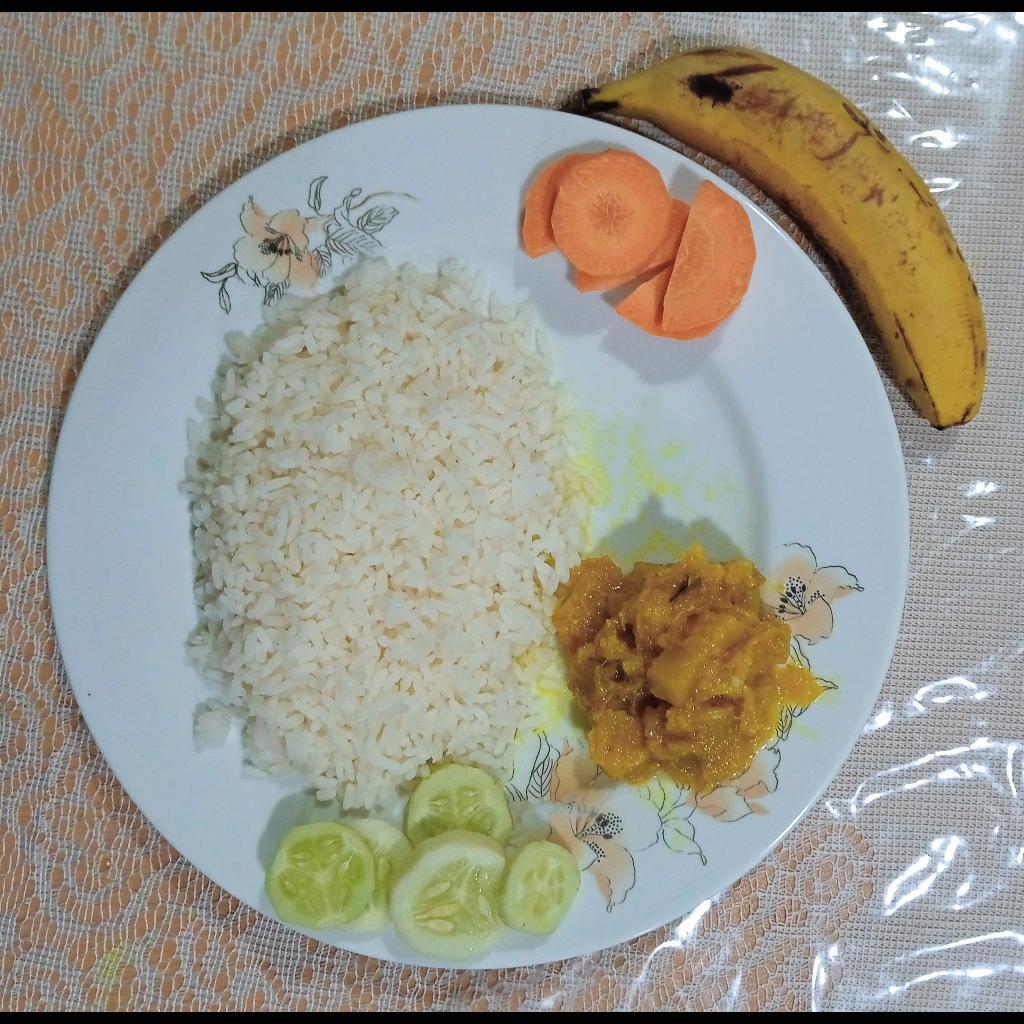banana: (558, 47, 989, 426)
carrot: (521, 150, 757, 343)
cucumber: (263, 763, 579, 960)
kumra-vaji: (553, 550, 822, 793)
rice: (183, 260, 594, 811)
